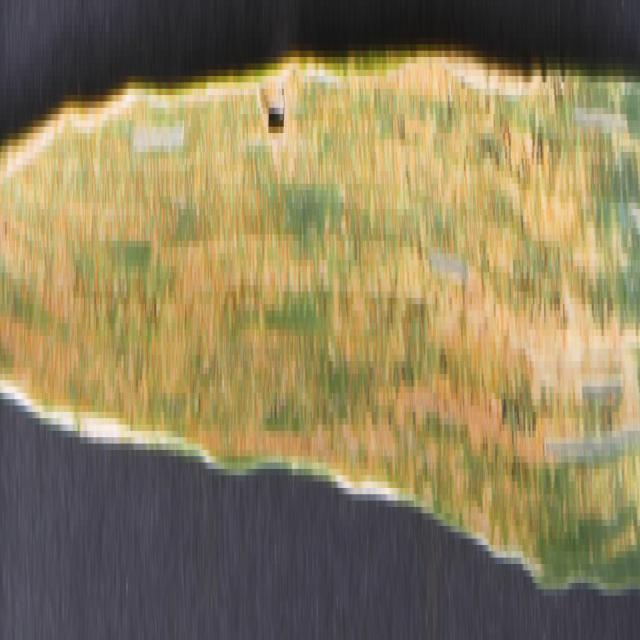leaf rust: (0, 12, 640, 551)
